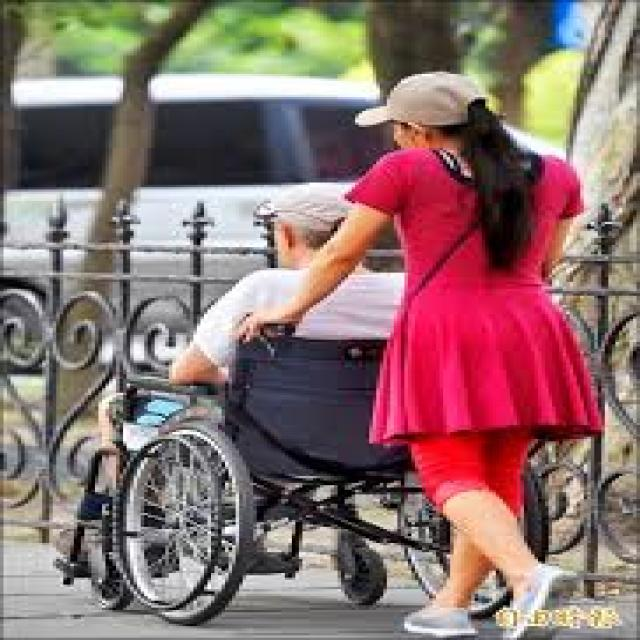wheelchairs: (56, 314, 552, 619)
